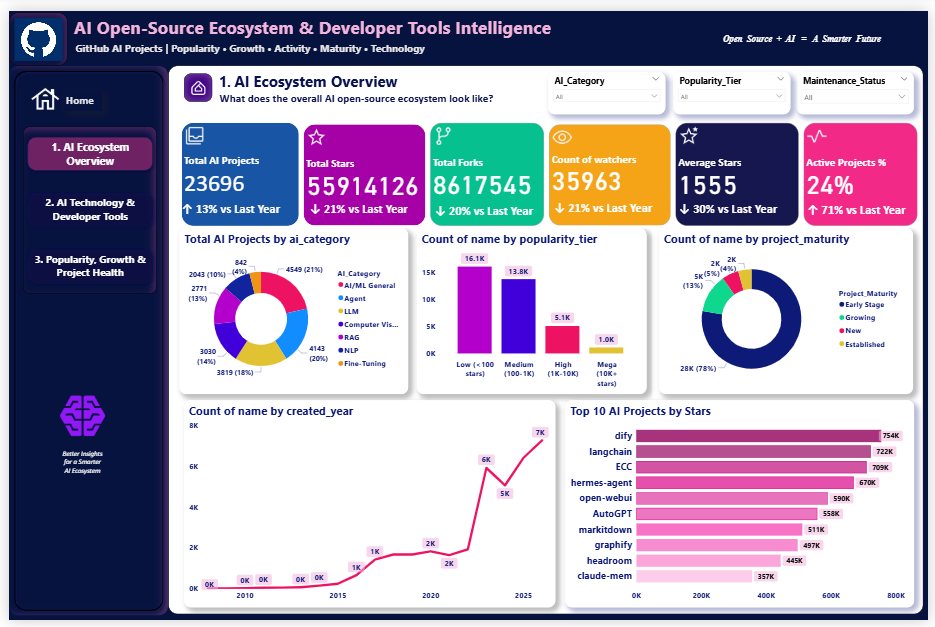

The dashboard page shown, as its layout file describes it:
{"tool":"powerbi","page":{"name":"1. AI Ecosystem Overview","canvas":[1960,1300],"ordinal":0},"visuals":[{"type":"textbox","box":[0,3.3,1950,113.3],"z":0},{"type":"textbox","box":[340,116.7,1610,1170],"z":1000},{"type":"shape","box":[0,116.7,340,1173.3],"z":2000},{"type":"donutChart","fields":{"Category":["github_ai_intelligence_2026.ai_category"],"Y":["github_ai_intelligence_2026.Total AI Projects"]},"box":[362,462,488,354],"z":4000},{"type":"clusteredColumnChart","fields":{"Category":["github_ai_intelligence_2026.popularity_tier"],"Y":["CountNonNull(github_ai_intelligence_2026.name)"]},"box":[870,462,490,354],"z":5000},{"type":"donutChart","fields":{"Category":["github_ai_intelligence_2026.project_maturity"],"Y":["CountNonNull(github_ai_intelligence_2026.name)"]},"box":[1388,462,542,354],"z":6000},{"type":"lineChart","fields":{"Category":["github_ai_intelligence_2026.created_year"],"Y":["CountNonNull(github_ai_intelligence_2026.name)"]},"box":[374,830,792,442],"z":7000},{"type":"clusteredBarChart","title":"Top 10 AI Projects by Stars","fields":{"Category":["github_ai_intelligence_2026.name"],"Y":["Sum(github_ai_intelligence_2026.stars)"]},"box":[1186,830,744,442],"z":8000},{"type":"cardVisual","fields":{"Data":["github_ai_intelligence_2026.Total Forks"]},"box":[893.3,233.3,253.3,230],"z":9000},{"type":"image","box":[0,3.3,125,113.3],"z":10000},{"type":"textbox","box":[136.7,60,1101.7,43.3],"z":11000},{"type":"cardVisual","fields":{"Data":["github_ai_intelligence_2026.Total AI Projects"]},"box":[363.3,233.3,260,230],"z":12000},{"type":"cardVisual","fields":{"Data":["CountNonNull(github_ai_intelligence_2026.watchers)"]},"box":[1146.7,236.7,270,226.7],"z":13000},{"type":"cardVisual","fields":{"Data":["github_ai_intelligence_2026.Average Stars"]},"box":[1416.7,233.3,273.3,230],"z":14000},{"type":"cardVisual","fields":{"Data":["github_ai_intelligence_2026.Total Stars"]},"box":[623.3,236.7,270,226.7],"z":15000},{"type":"cardVisual","fields":{"Data":["github_ai_intelligence_2026.Active Projects %"]},"box":[1690,233.3,253.3,230],"z":16000},{"type":"image","box":[75,792.5,160,140],"z":17000},{"type":"textbox","box":[96.7,933.3,123.3,73.3],"z":18000},{"type":"image","box":[40,142.5,75,90],"z":19000},{"type":"image","box":[373.3,133.3,60,60],"z":20000},{"type":"textbox","box":[115,170,81.7,43.3],"z":21000},{"type":"pageNavigator","box":[28.3,245,285,356.7],"z":22000},{"type":"slicer","fields":{"Values":["github_ai_intelligence_2026.ai_category"]},"box":[1150,130,250,90],"z":23000},{"type":"slicer","fields":{"Values":["github_ai_intelligence_2026.maintenance_status"]},"box":[1680,130,250,90],"z":24000},{"type":"slicer","fields":{"Values":["github_ai_intelligence_2026.popularity_tier"]},"box":[1417.5,130,250,90],"z":25000},{"type":"textbox","box":[1490,43.3,403.3,40],"z":26000},{"type":"card","fields":{"Values":["AI Platforms.Projects Growth Label"]},"box":[340,396.7,266.7,50],"z":27000},{"type":"card","fields":{"Values":["AI Platforms.Total Stars Growth Label"]},"box":[624,394,246,56],"z":28000},{"type":"card","fields":{"Values":["AI Platforms.Total Forks Growth Label"]},"box":[894,408,240,38],"z":29000},{"type":"card","fields":{"Values":["AI Platforms.Active Projects Growth Label"]},"box":[1690,392,236,60],"z":30000},{"type":"card","fields":{"Values":["AI Platforms.Total Watchers Growth Label"]},"box":[1148,394,242,52],"z":31000},{"type":"card","fields":{"Values":["AI Platforms.Average Stars Growth Label"]},"box":[1417.5,392.5,235,55],"z":32000}]}

Visuals, with their boxes in screenshot pixels (x1, y1, x2, y2):
textbox: l=5, t=9, r=922, b=62
textbox: l=165, t=62, r=922, b=613
shape: l=5, t=62, r=165, b=614
donutChart - github_ai_intelligence_2026.ai_category x github_ai_intelligence_2026.Total AI Projects: l=175, t=225, r=405, b=391
clusteredColumnChart - github_ai_intelligence_2026.popularity_tier x CountNonNull(github_ai_intelligence_2026.name): l=414, t=225, r=645, b=391
donutChart - github_ai_intelligence_2026.project_maturity x CountNonNull(github_ai_intelligence_2026.name): l=658, t=225, r=913, b=391
lineChart - github_ai_intelligence_2026.created_year x CountNonNull(github_ai_intelligence_2026.name): l=181, t=398, r=553, b=606
"Top 10 AI Projects by Stars" clusteredBarChart: l=563, t=398, r=913, b=606
cardVisual - github_ai_intelligence_2026.Total Forks: l=425, t=117, r=544, b=225
image: l=5, t=9, r=64, b=62
textbox: l=69, t=36, r=587, b=56
cardVisual - github_ai_intelligence_2026.Total AI Projects: l=176, t=117, r=298, b=225
cardVisual - CountNonNull(github_ai_intelligence_2026.watchers): l=544, t=119, r=671, b=225
cardVisual - github_ai_intelligence_2026.Average Stars: l=671, t=117, r=800, b=225
cardVisual - github_ai_intelligence_2026.Total Stars: l=298, t=119, r=425, b=225
cardVisual - github_ai_intelligence_2026.Active Projects %: l=800, t=117, r=919, b=225
image: l=40, t=380, r=115, b=446
textbox: l=50, t=446, r=108, b=481
image: l=24, t=74, r=59, b=117
image: l=180, t=70, r=209, b=98
textbox: l=59, t=87, r=97, b=108
pageNavigator: l=18, t=123, r=152, b=290
slicer - github_ai_intelligence_2026.ai_category: l=546, t=68, r=664, b=111
slicer - github_ai_intelligence_2026.maintenance_status: l=795, t=68, r=913, b=111
slicer - github_ai_intelligence_2026.popularity_tier: l=672, t=68, r=789, b=111
textbox: l=706, t=28, r=896, b=46
card - AI Platforms.Projects Growth Label: l=165, t=194, r=290, b=217
card - AI Platforms.Total Stars Growth Label: l=298, t=193, r=414, b=219
card - AI Platforms.Total Forks Growth Label: l=425, t=199, r=538, b=217
card - AI Platforms.Active Projects Growth Label: l=800, t=192, r=911, b=220
card - AI Platforms.Total Watchers Growth Label: l=545, t=193, r=659, b=217
card - AI Platforms.Average Stars Growth Label: l=672, t=192, r=782, b=218
